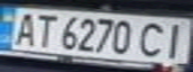0: (112, 17, 139, 55)
2: (75, 15, 96, 53)
6: (57, 13, 81, 51)
7: (93, 16, 115, 54)
A: (9, 10, 39, 47)
C: (136, 19, 172, 58)
I: (157, 20, 193, 58)
T: (30, 11, 60, 48)
